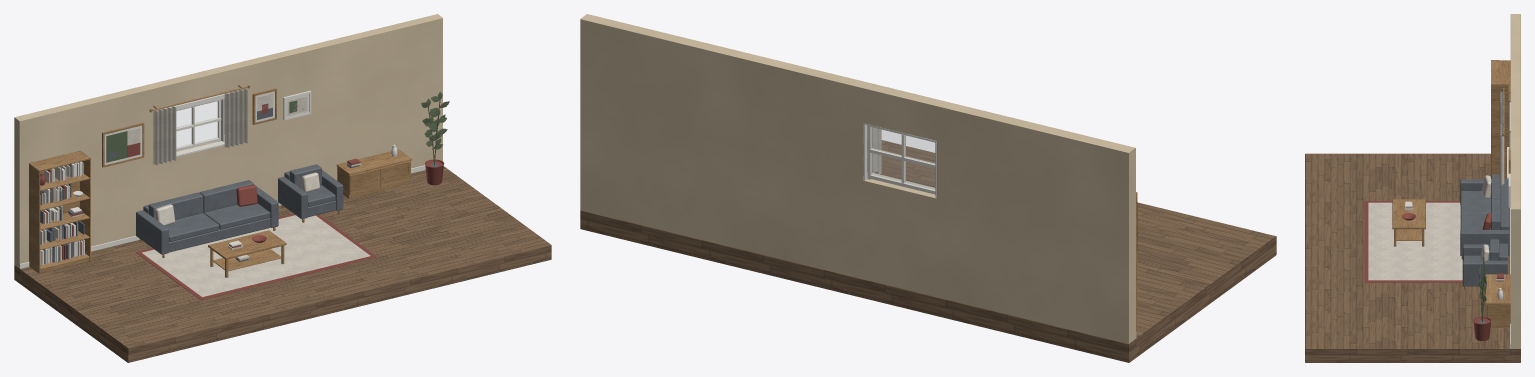
The model's file is Room_Living.fbx.
3 renders of one model, left to right at view 1: azimuth 30°, elevation 25°; view 2: azimuth 150°, elevation 25°; view 3: azimuth 270°, elevation 25°, orthographic. The views are drawn at different scales.
Parts seen in each view (by area): view 1: Living_BackWall, Living_Floor, Living_Rug, Living_Sofa, Living_Bookshelf, Living_Pictures, Living_Curtains, Living_Books, Living_Window, Living_TVStand, Living_Armchair, Living_CoffeeTable (+2 smaller); view 2: Living_BackWall, Living_Floor, Living_Window; view 3: Living_Floor, Living_Rug, Living_BackWall, Living_Sofa, Living_Bookshelf, Living_Armchair, Living_CoffeeTable, Living_TVStand, Living_Plant, Living_Curtains, Living_Cushions, Living_Pictures.
Boxes of the visible parts, x1=… form: Living_BackWall: x1=14, y1=14, x2=443, y2=268; Living_Floor: x1=14, y1=166, x2=551, y2=362; Living_Rug: x1=135, y1=213, x2=376, y2=299; Living_Sofa: x1=136, y1=180, x2=278, y2=257; Living_Bookshelf: x1=29, y1=150, x2=91, y2=273; Living_Pictures: x1=102, y1=88, x2=311, y2=167; Living_Curtains: x1=149, y1=85, x2=250, y2=165; Living_Books: x1=40, y1=161, x2=84, y2=265; Living_Window: x1=165, y1=93, x2=228, y2=157; Living_TVStand: x1=336, y1=149, x2=412, y2=198; Living_Armchair: x1=278, y1=164, x2=343, y2=222; Living_CoffeeTable: x1=208, y1=230, x2=286, y2=277; Living_BackWall: x1=580, y1=14, x2=1136, y2=343; Living_Floor: x1=580, y1=140, x2=1276, y2=362; Living_Window: x1=863, y1=123, x2=936, y2=198; Living_Floor: x1=1305, y1=153, x2=1520, y2=362; Living_Rug: x1=1364, y1=201, x2=1462, y2=282; Living_BackWall: x1=1509, y1=14, x2=1520, y2=348; Living_Sofa: x1=1460, y1=174, x2=1509, y2=259; Living_Bookshelf: x1=1491, y1=60, x2=1510, y2=178; Living_Armchair: x1=1462, y1=239, x2=1507, y2=289; Living_CoffeeTable: x1=1392, y1=199, x2=1425, y2=246; Living_TVStand: x1=1485, y1=274, x2=1510, y2=327; Living_Plant: x1=1473, y1=255, x2=1491, y2=340; Living_Curtains: x1=1499, y1=88, x2=1510, y2=185; Living_Cushions: x1=1480, y1=175, x2=1491, y2=260; Living_Pictures: x1=1508, y1=81, x2=1510, y2=207.
Size of the model in its own units: 900 by 330 by 420.
9 materials, 5 textured.
